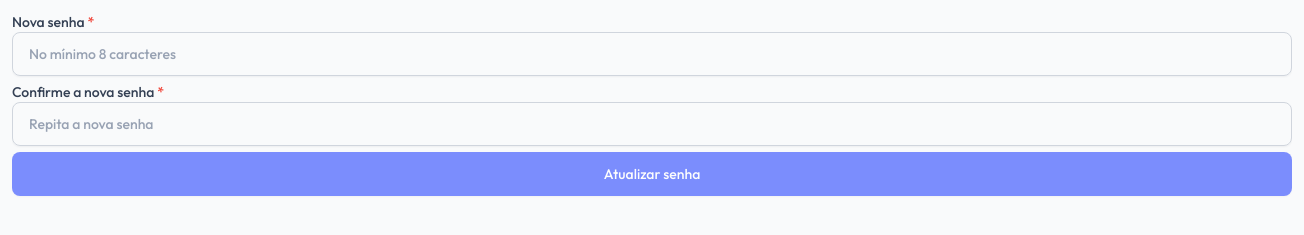
Test: ChangePasswordForm › libera a troca somente após validar senhas iguais no blur
The width and height of the screenshot is (1304, 235).
expect the button "Atualizar senha" is disabled: met, box [12, 152, 1292, 196]
Type "nova-senha-segura" into the password field labelled "Nova senha *" at (652, 54), box [12, 32, 1292, 76]
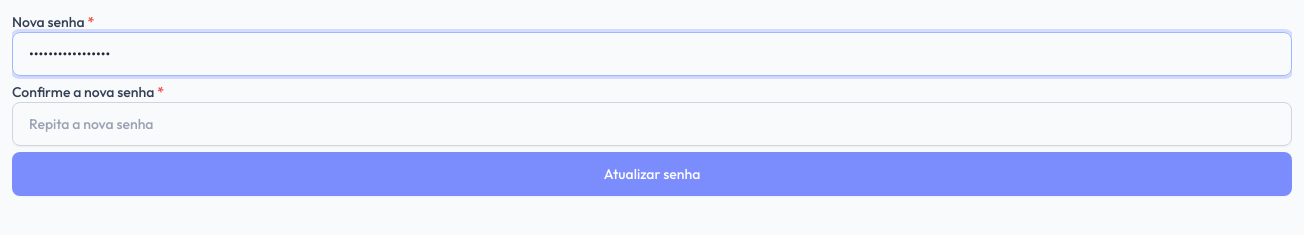
Press Tab
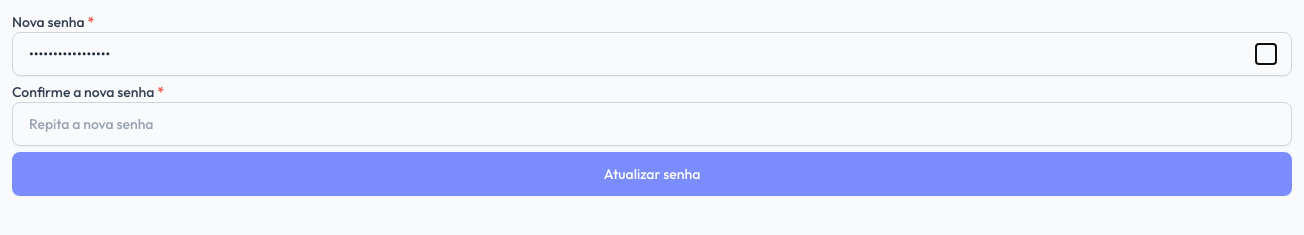
Type "senha-diferente" into the password field labelled "Confirme a nova senha *" at (652, 124), box [12, 102, 1292, 146]
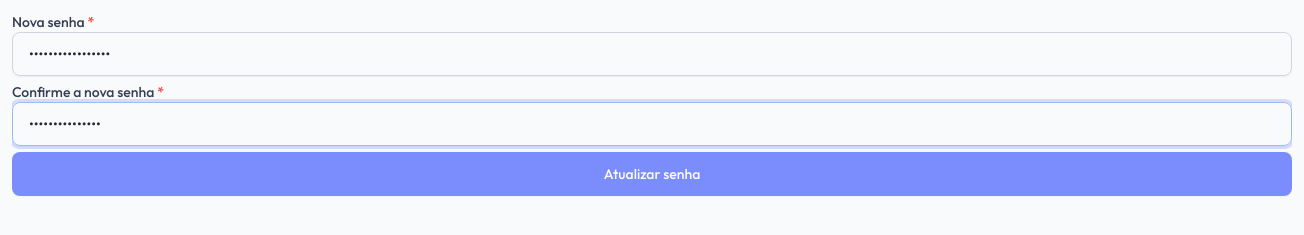
Press Tab
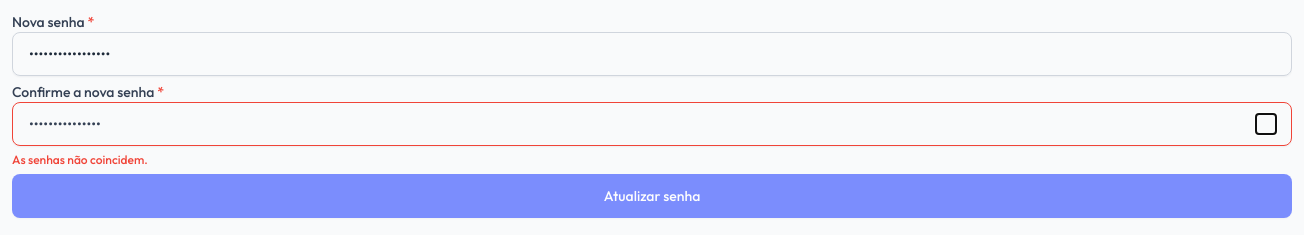
expect the button "Atualizar senha" is disabled: met, box [12, 174, 1292, 218]
expect the text "As senhas não coincidem." is shown: met, box [12, 152, 148, 167]
Type "nova-senha-segura" into the password field labelled "Confirme a nova senha * As senhas não coincidem." at (652, 124), box [12, 102, 1292, 146]
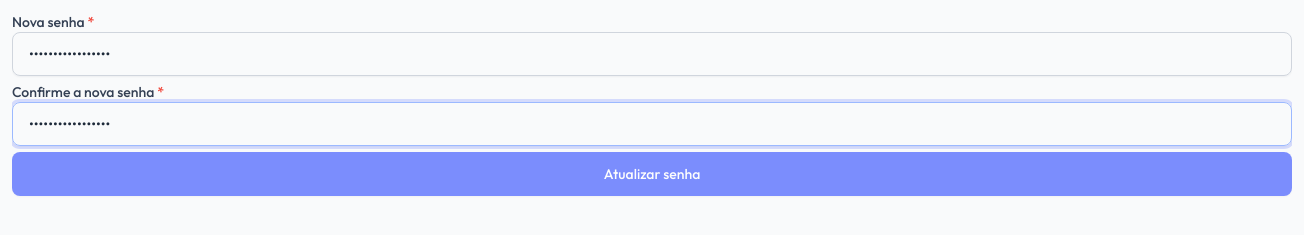
Press Tab
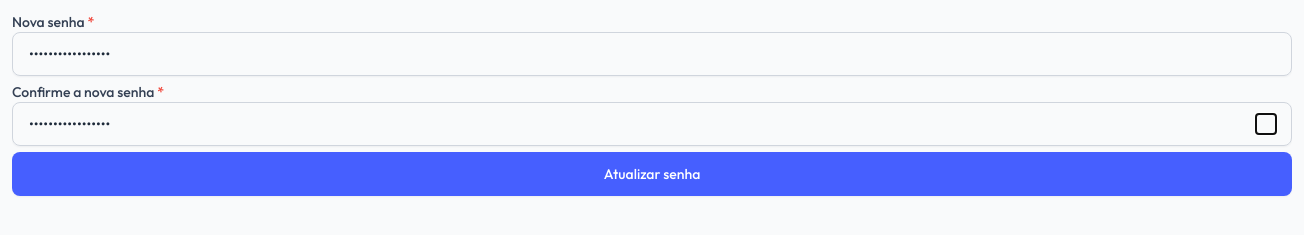
expect the button "Atualizar senha" is enabled: met, box [12, 152, 1292, 196]
